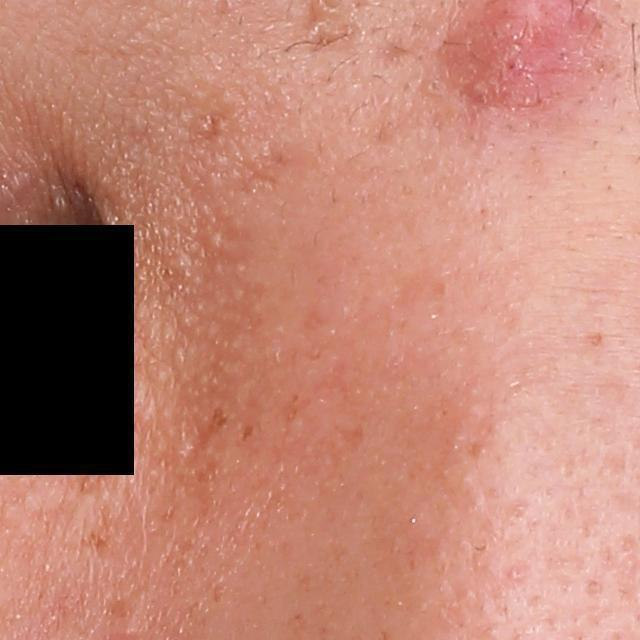melasma: (77, 526, 119, 556), (237, 420, 259, 444), (207, 405, 227, 429)
